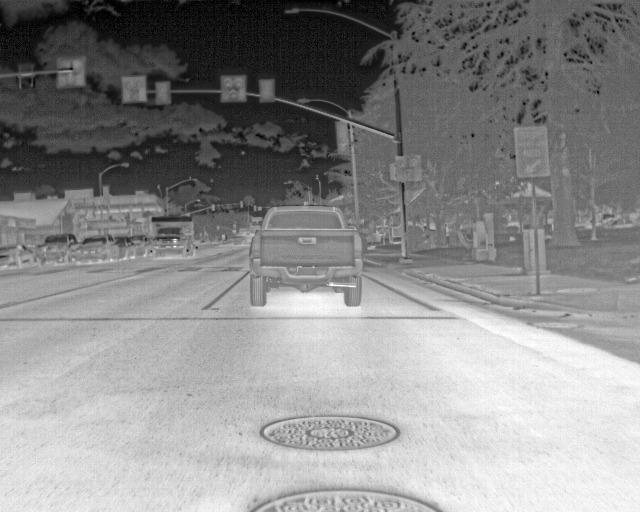car: (249, 205, 364, 306), (152, 215, 195, 258), (36, 234, 82, 267), (75, 235, 120, 263), (0, 243, 36, 269), (114, 236, 136, 260), (130, 235, 153, 257), (586, 213, 615, 227), (602, 217, 635, 227), (234, 232, 255, 246), (219, 239, 234, 245), (200, 240, 207, 244)
light: (222, 76, 245, 101), (60, 60, 83, 84), (398, 159, 420, 181), (124, 78, 145, 101), (390, 163, 398, 180), (404, 190, 411, 203), (240, 201, 243, 208), (212, 204, 215, 211), (254, 206, 256, 211), (217, 226, 219, 231)
sign: (515, 127, 550, 177), (19, 63, 35, 90), (260, 80, 275, 102), (156, 82, 170, 105), (369, 223, 375, 233), (233, 203, 238, 208), (258, 207, 262, 211), (232, 230, 236, 234)
